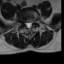CCS_normal: (27, 20, 29, 29)
LFS_stenosis: (31, 18, 34, 25)
LLS_normal: (29, 20, 31, 28)
RFS_severe_stenosis: (22, 21, 24, 26)
RLS_normal: (24, 20, 27, 27)
